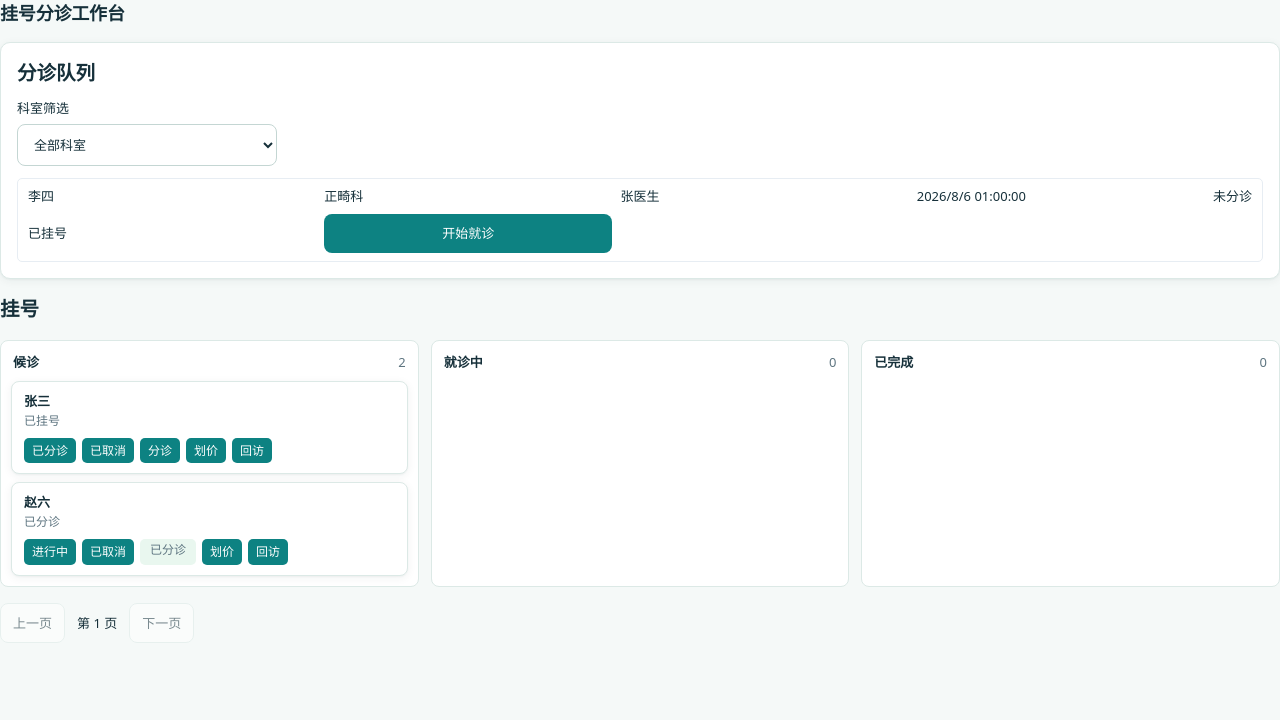
Scenario: FrontDeskWorkflowPage › submits a triage from the registration row
Click the button "分诊" at coordinates (160, 451), box [140, 438, 180, 463]
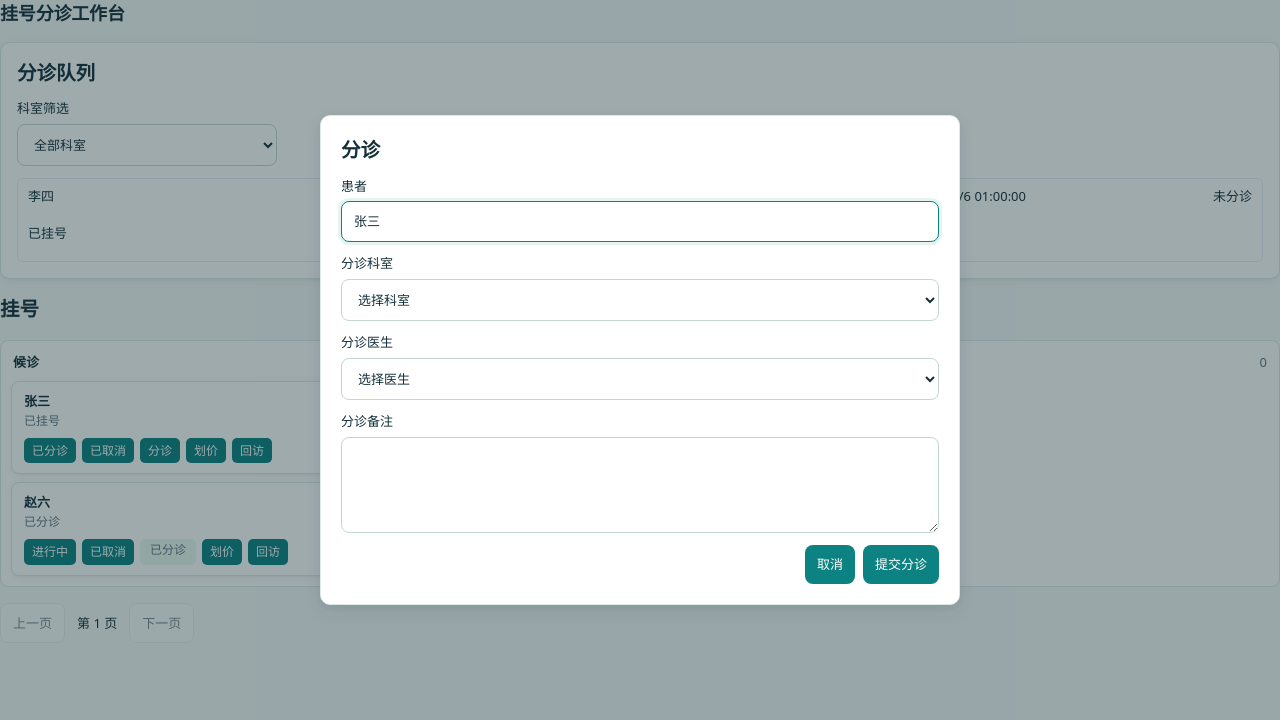
Select "正畸科" in the dropdown labelled "分诊科室" at coordinates (640, 300), box [341, 279, 939, 321]
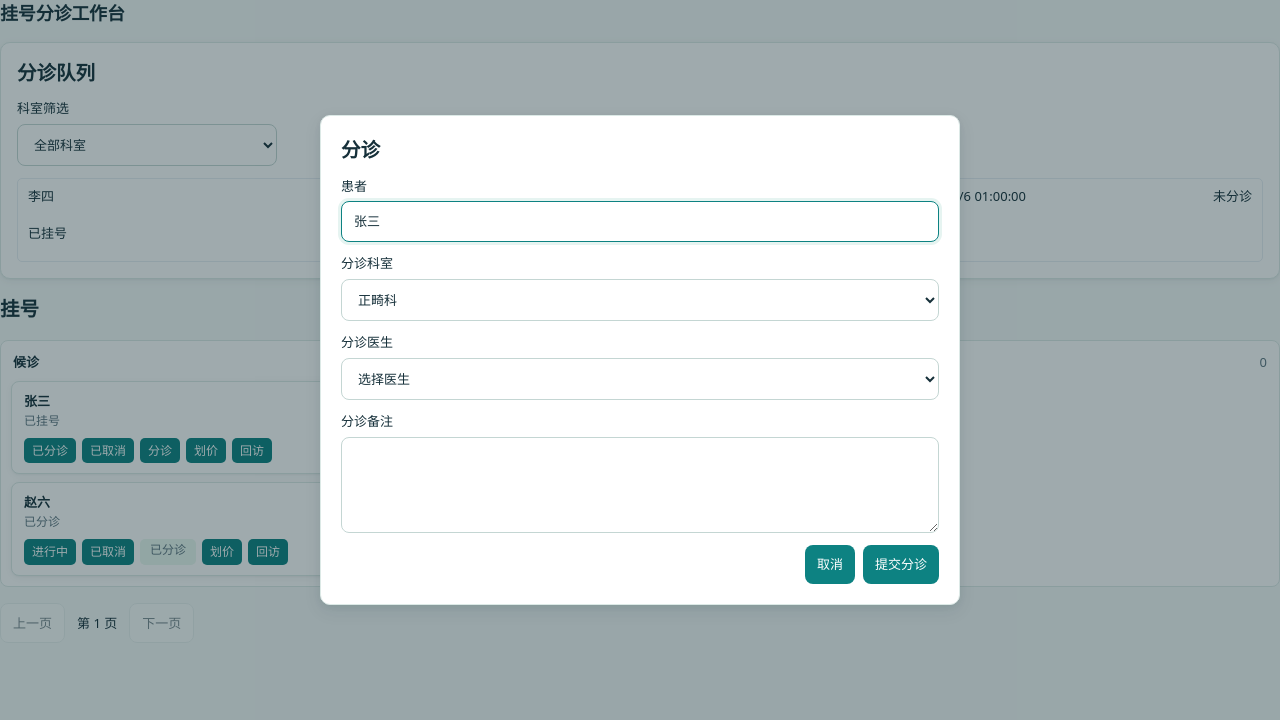
Select "张医生" in the dropdown labelled "分诊医生" at coordinates (640, 379), box [341, 358, 939, 400]
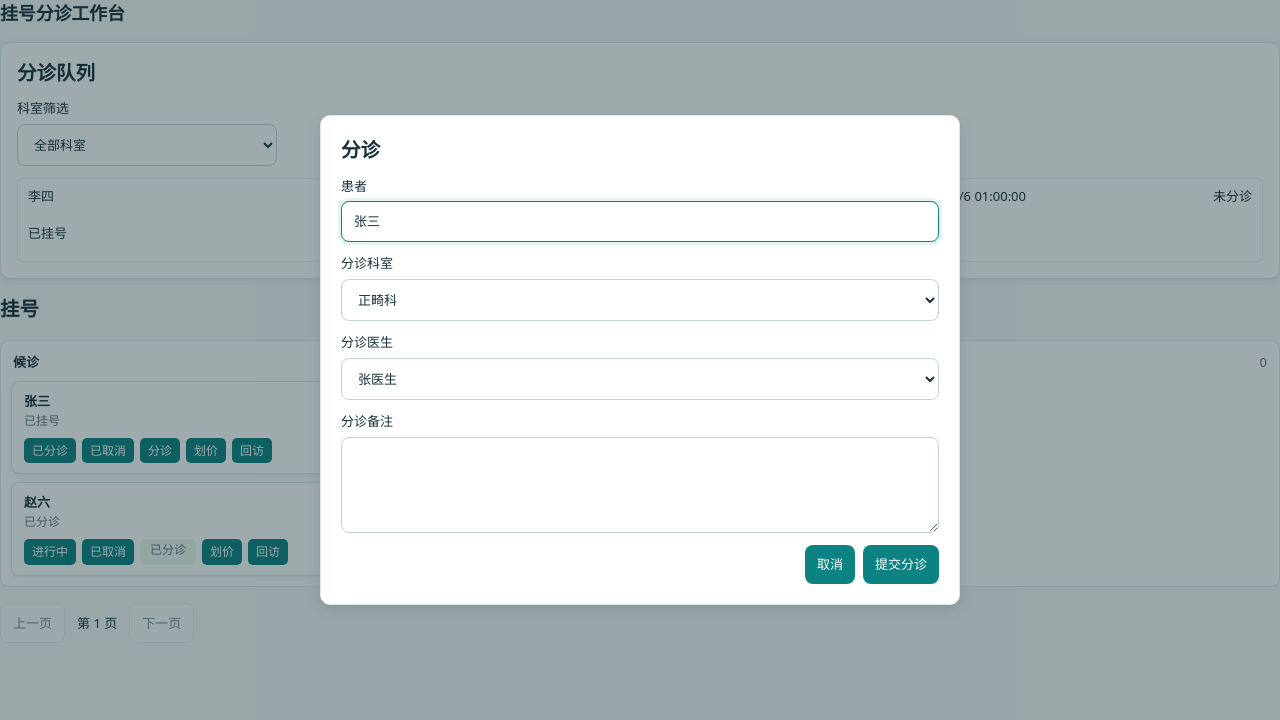
Type "牙体牙髓" into the text box labelled "分诊备注" at coordinates (640, 485), box [341, 437, 939, 533]
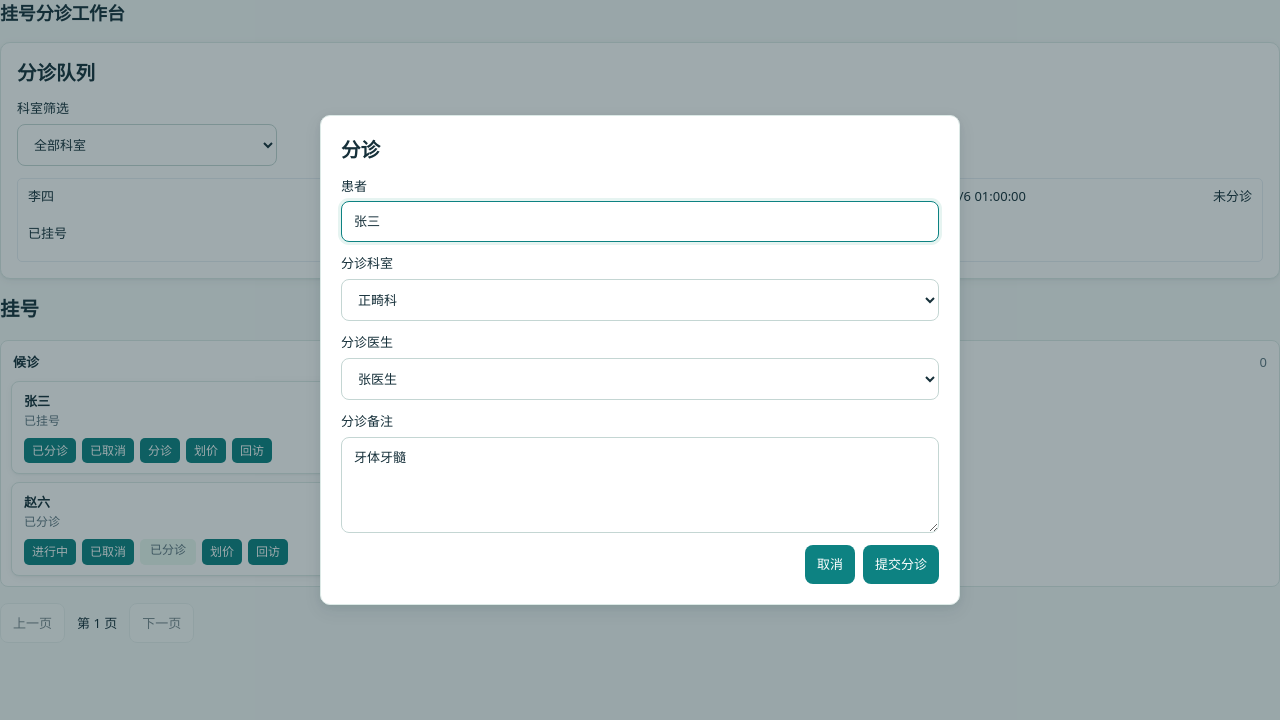
Click the button "提交分诊" at coordinates (901, 564), box [863, 545, 939, 584]
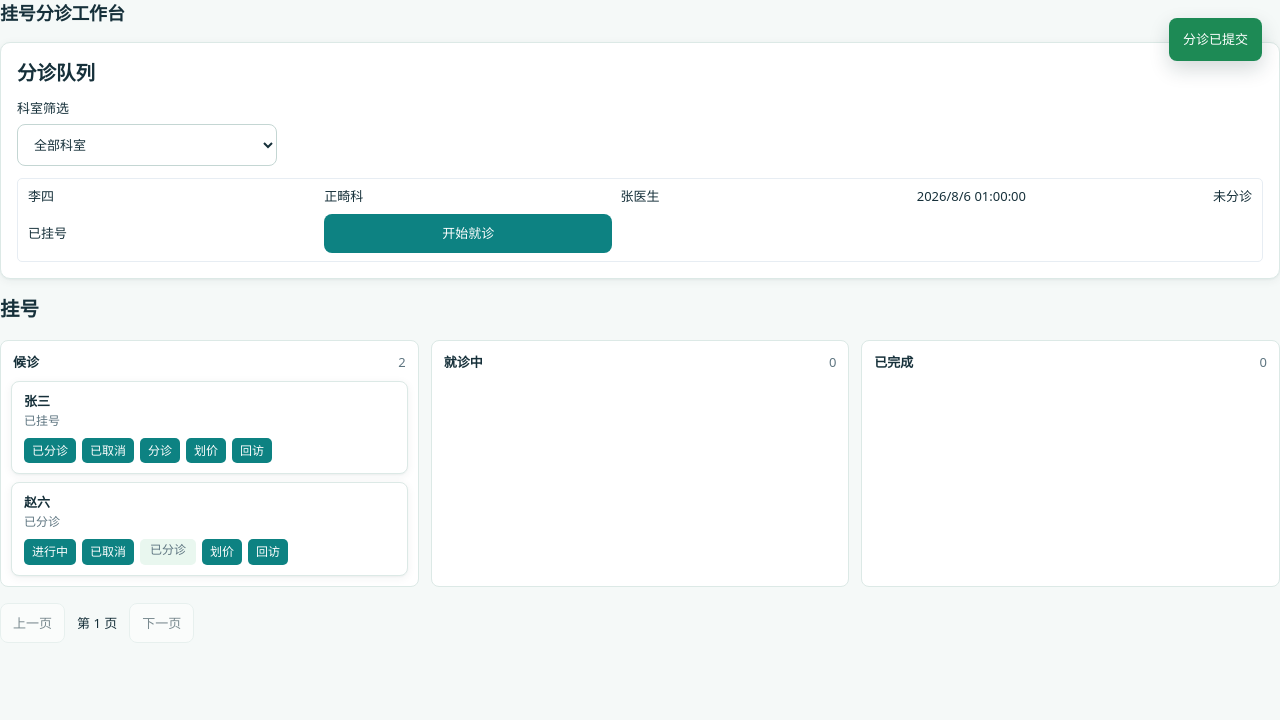
Expected: the text "分诊已提交" is shown, [1169, 18, 1262, 61]
